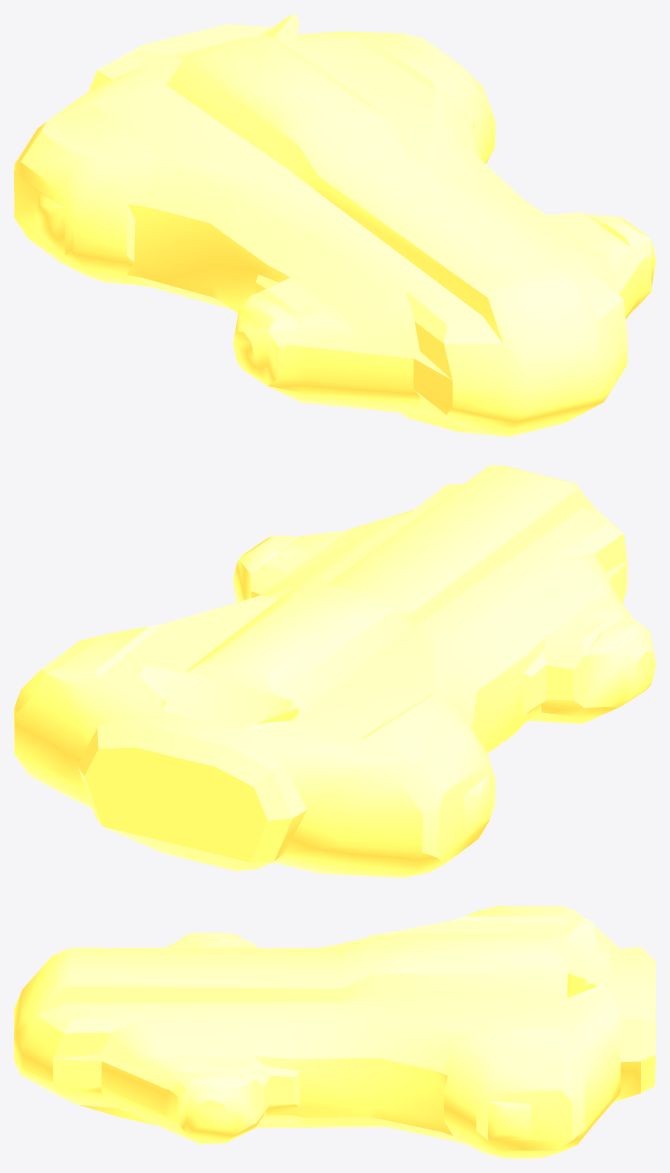
The model's file is alpha_catalosteer_aegis.glb.
3 views of the same model, one above another, from view 1: azimuth 30°, elevation 25°; view 2: azimuth 150°, elevation 25°; view 3: azimuth 270°, elevation 25° (orthographic). The views are drawn at different scales.
Visible parts, largest first — view 1: alpha_catalosteer_aegis; view 2: alpha_catalosteer_aegis; view 3: alpha_catalosteer_aegis.
Boxes of the visible parts, box(x1,y1,x2,y2) form: alpha_catalosteer_aegis: box(14, 14, 655, 436); alpha_catalosteer_aegis: box(14, 465, 655, 877); alpha_catalosteer_aegis: box(14, 906, 655, 1158).
Size of the model in its own units: 0.6778 by 0.2919 by 1.04.
